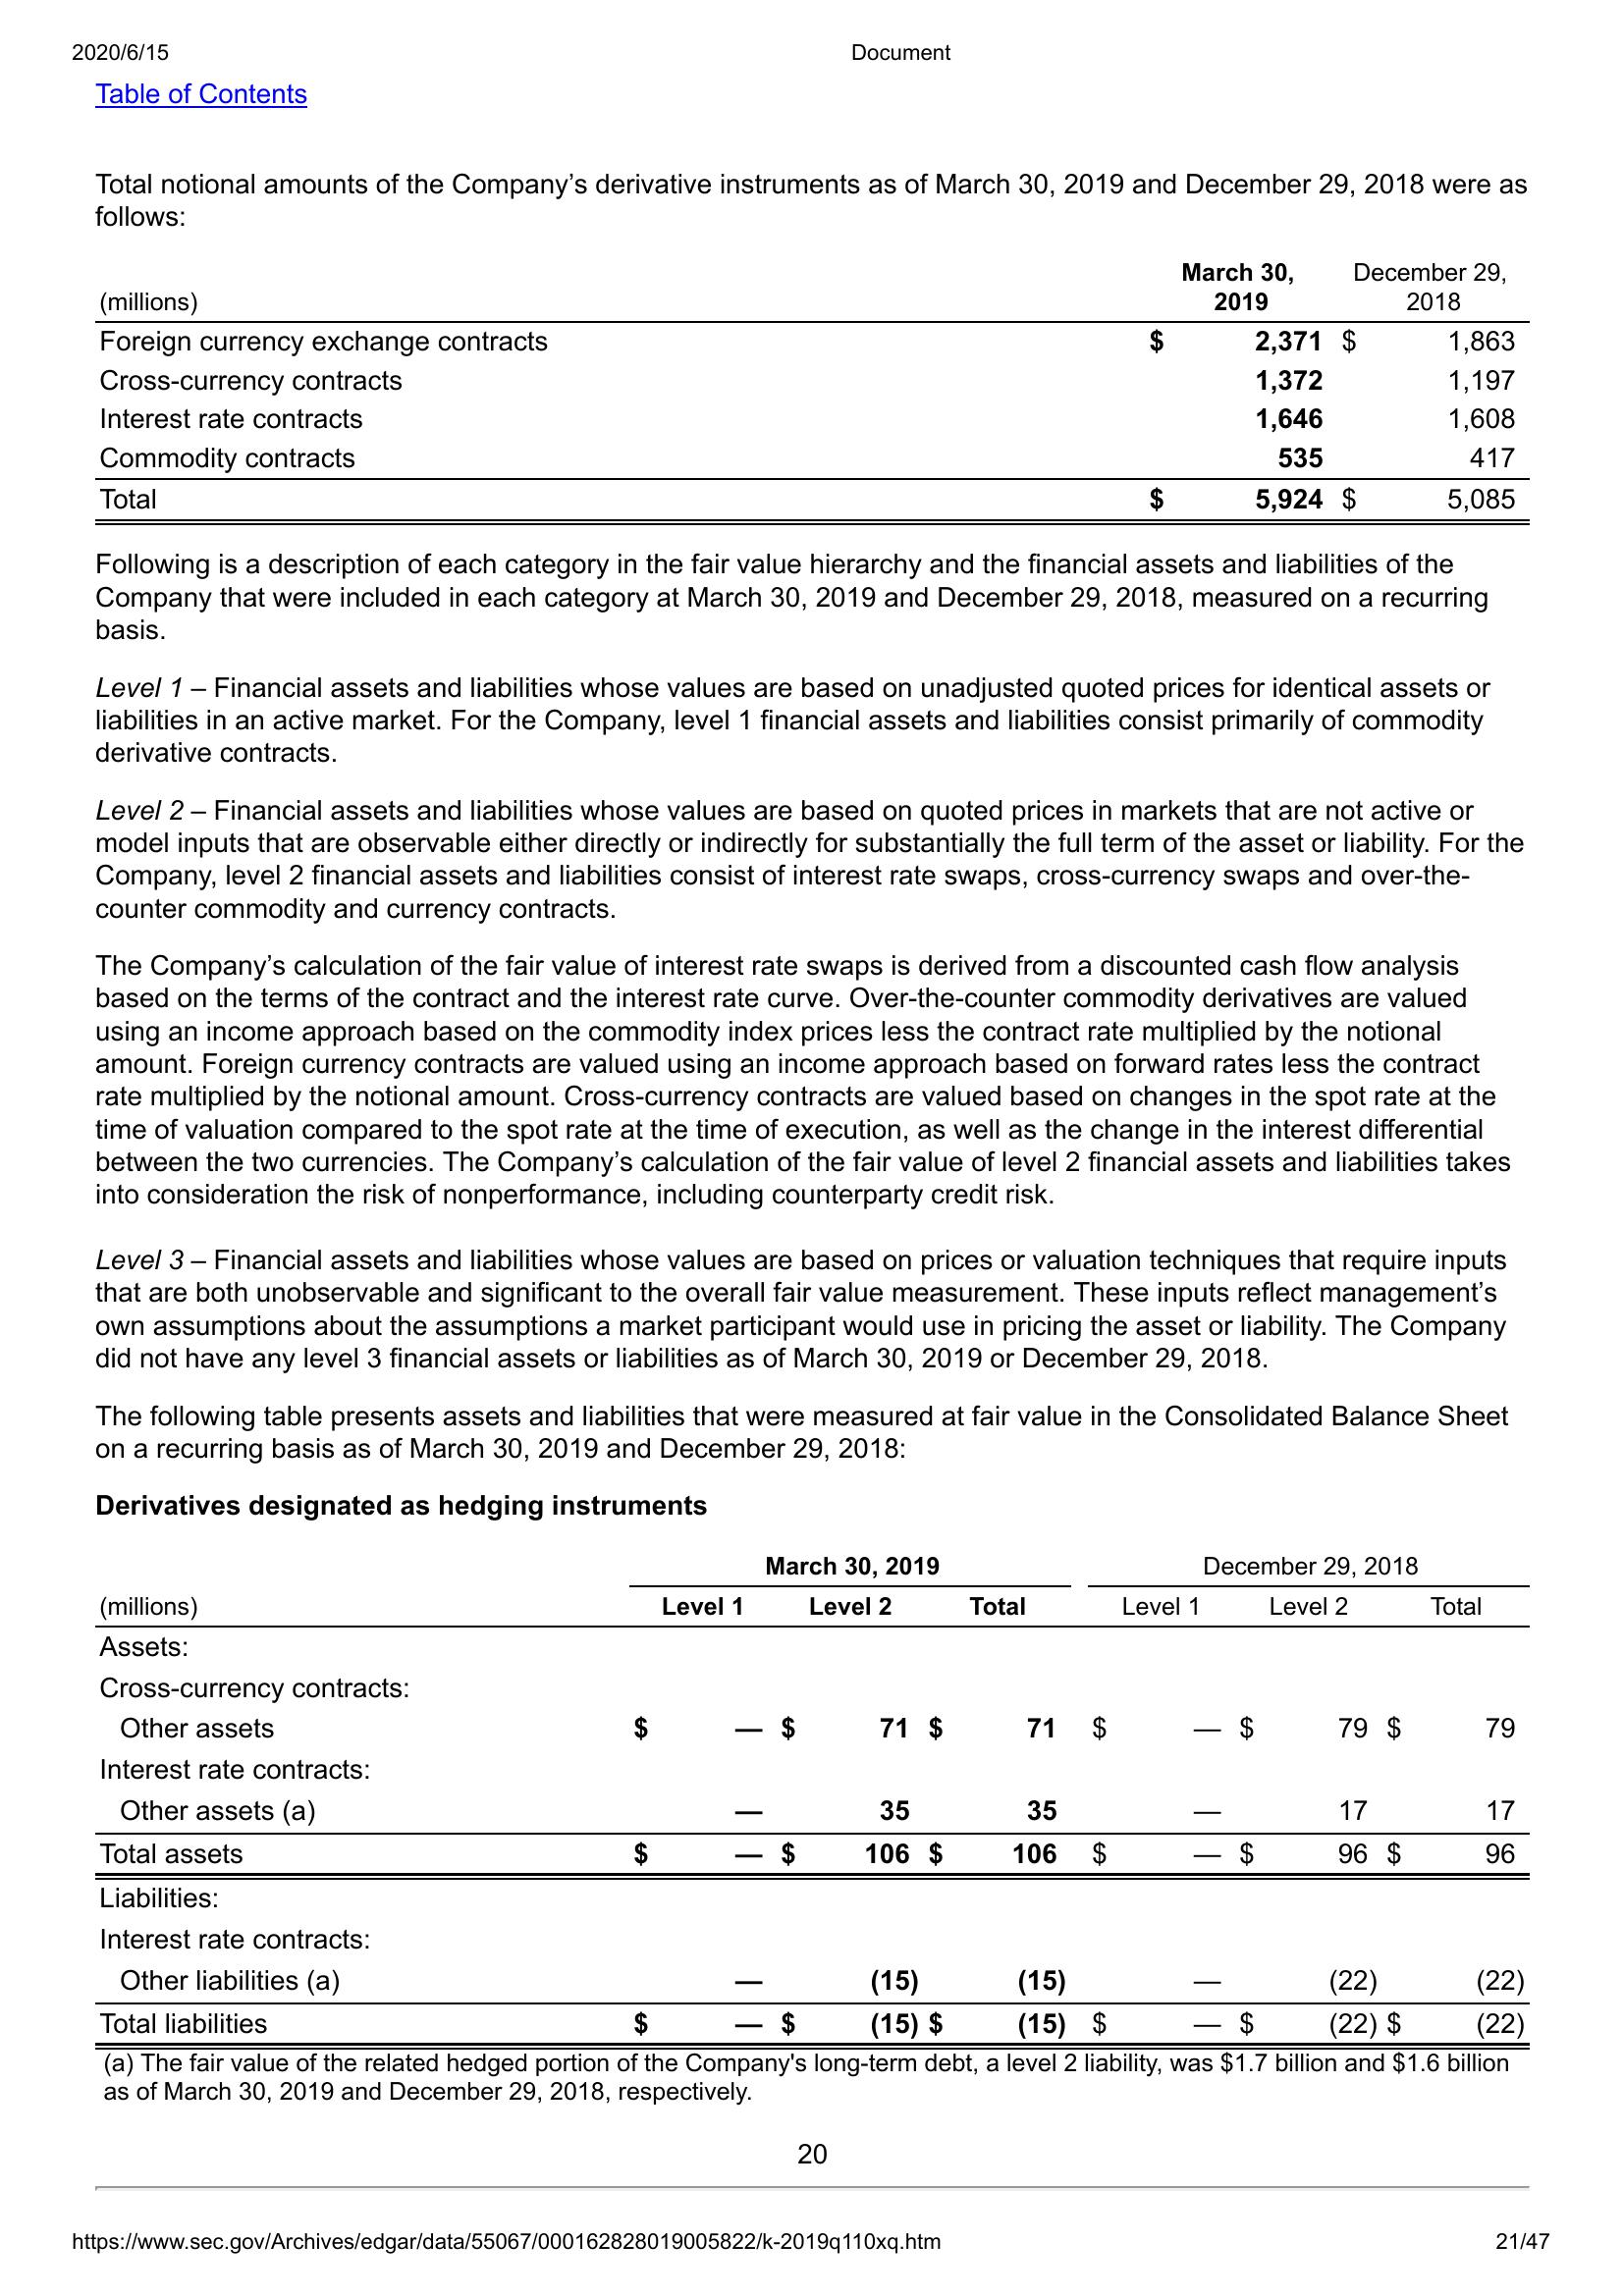table: (83, 1545, 1542, 1894), (84, 260, 1537, 530), (88, 1924, 1537, 2054)
